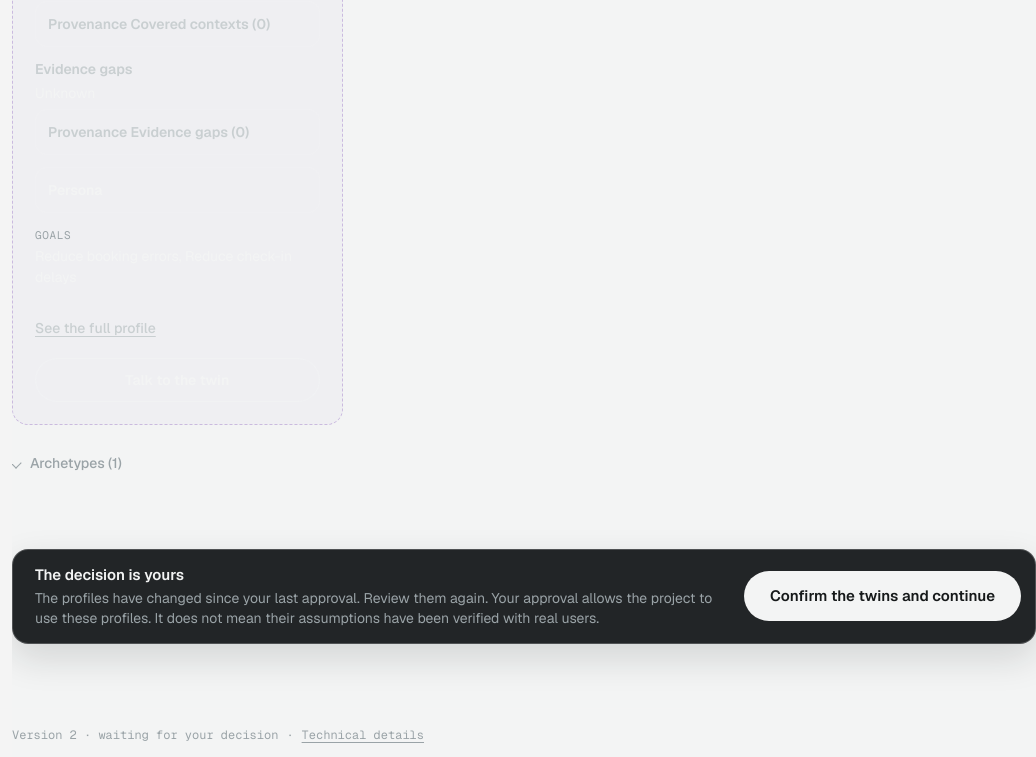
Test: governed User Modeling journey › does not carry an approved Gate 3 decision across a newer User Modeling snapshot
(page scrolled)
Click the button with test id "step-technical-details-toggle": [218, 735] box [12,713,424,756]
(page scrolled)
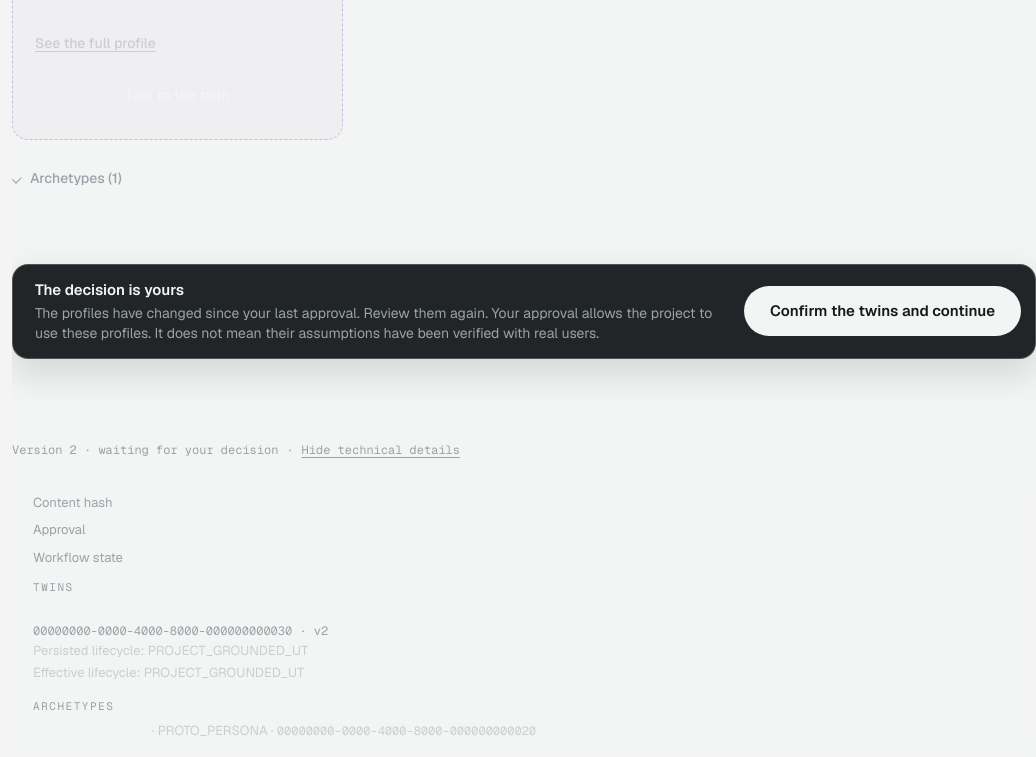
expect the text with test id "effective-lifecycle" reads "PROJECT_GROUNDED_UT": met, box [144,664,304,681]
